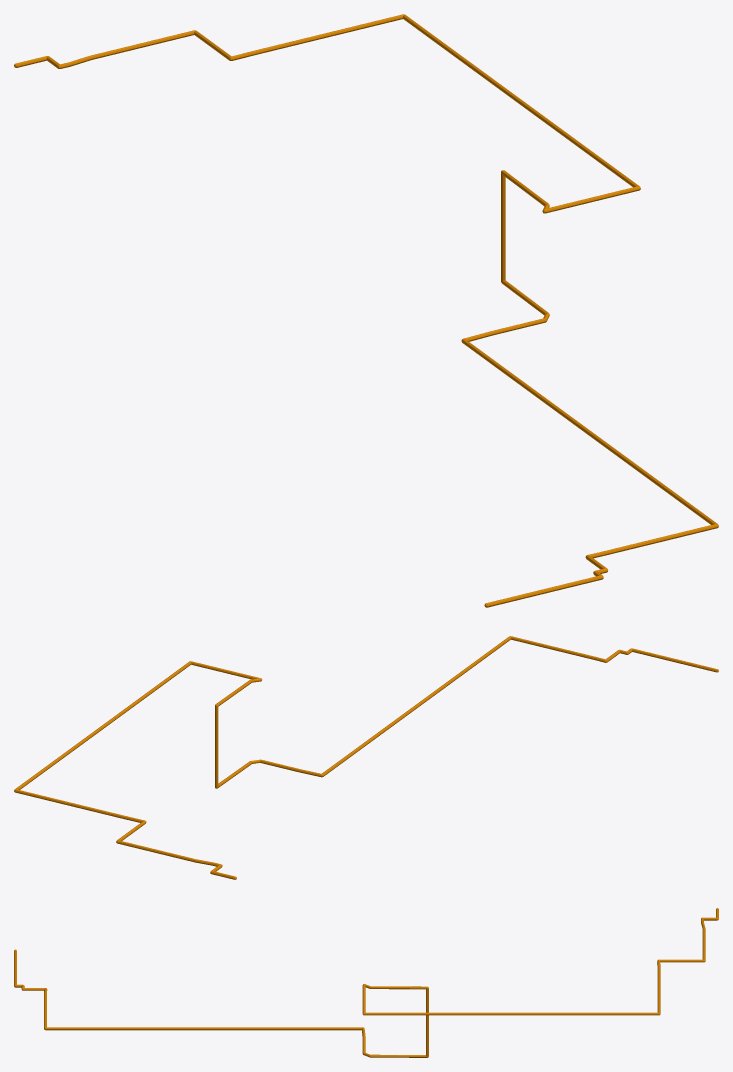
3 views of the same model, one above another, from view 1: azimuth 30°, elevation 25°; view 2: azimuth 150°, elevation 25°; view 3: azimuth 270°, elevation 25° (orthographic). The views are drawn at different scales.
Bounding box in the file's own units: 2078 × 520 × 4660.
